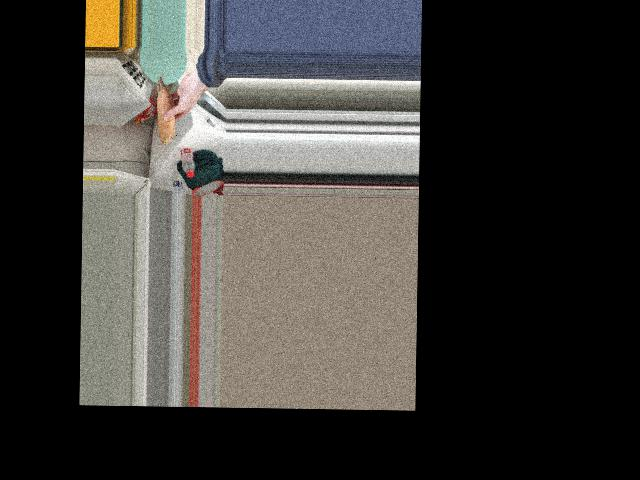sweet_potato: (151, 77, 179, 147)
